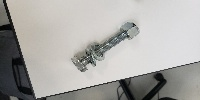FinishedAssembly: (67, 21, 144, 76)
